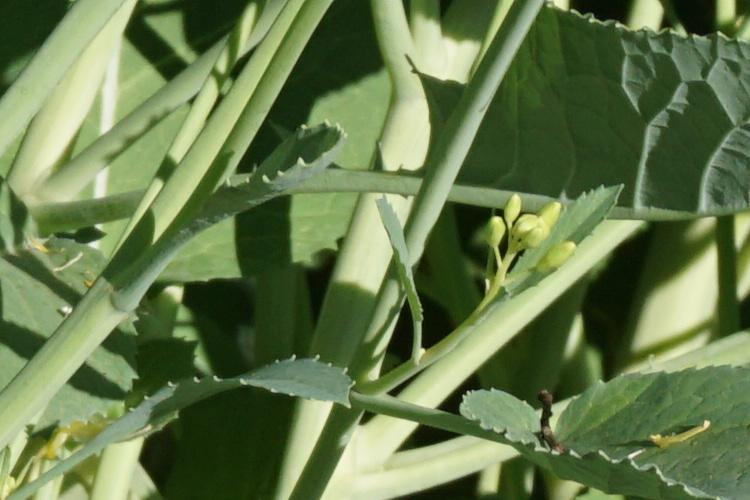bud: (541, 239, 581, 280), (538, 199, 567, 231), (514, 215, 543, 239), (498, 193, 522, 221), (489, 218, 506, 252)
